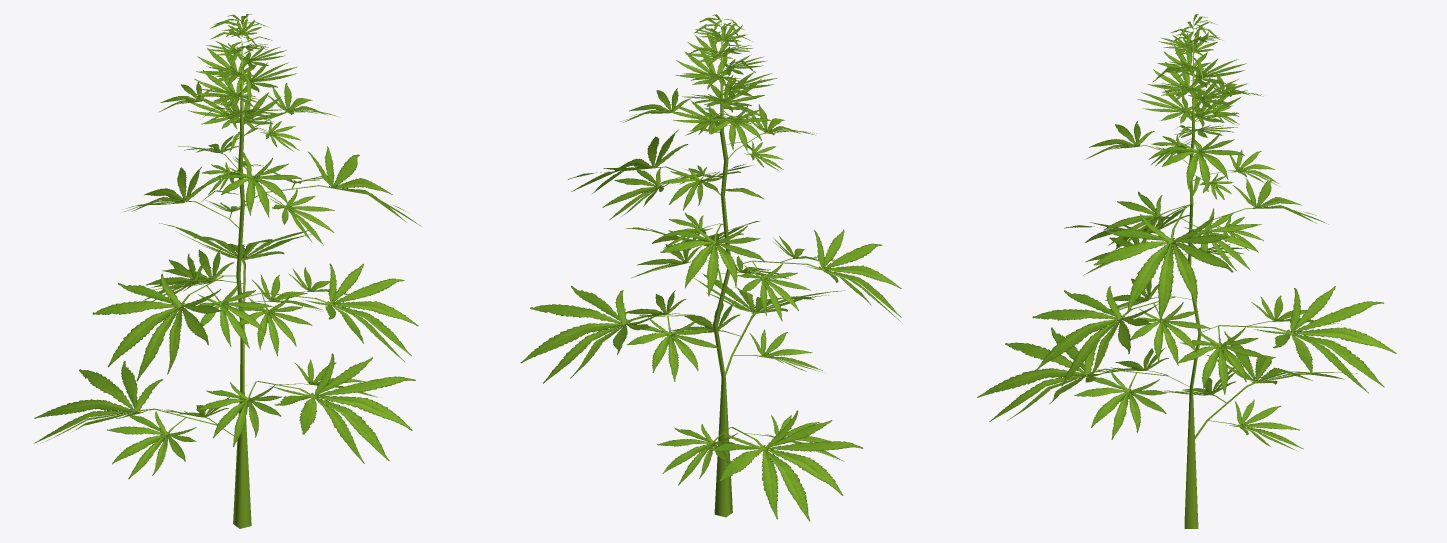
File: kytka_mari_mlada.glb
3 renders of one model, left to right at view 1: azimuth 30°, elevation 25°; view 2: azimuth 150°, elevation 25°; view 3: azimuth 270°, elevation 25°, orthographic.
Parts seen in each view (by area): view 1: kytka_mari_mlada_0; view 2: kytka_mari_mlada_0; view 3: kytka_mari_mlada_0.
Boxes of the visible parts, x1,y1,x2,y2 form: kytka_mari_mlada_0: (33,14,421,528); kytka_mari_mlada_0: (520,14,902,521); kytka_mari_mlada_0: (977,14,1396,528).
Size of the model in its own units: 0.7657 by 1 by 0.8635.
Materials: 1 (1 with a texture image).
